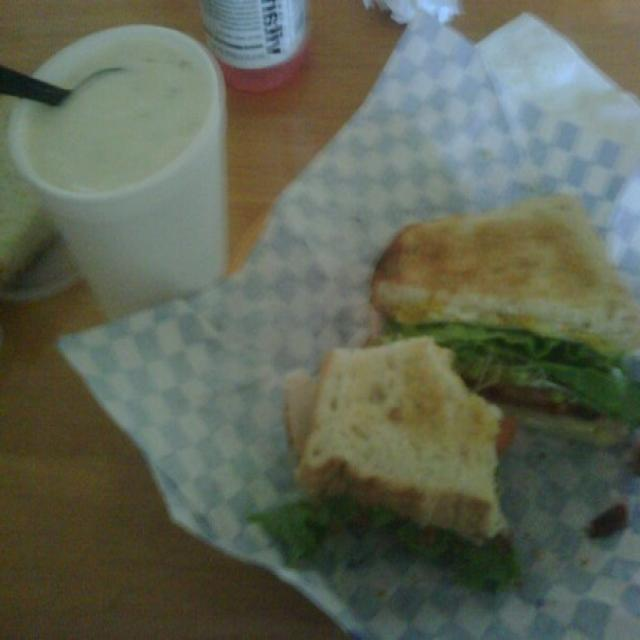Sandwich: (261, 158, 634, 592)
